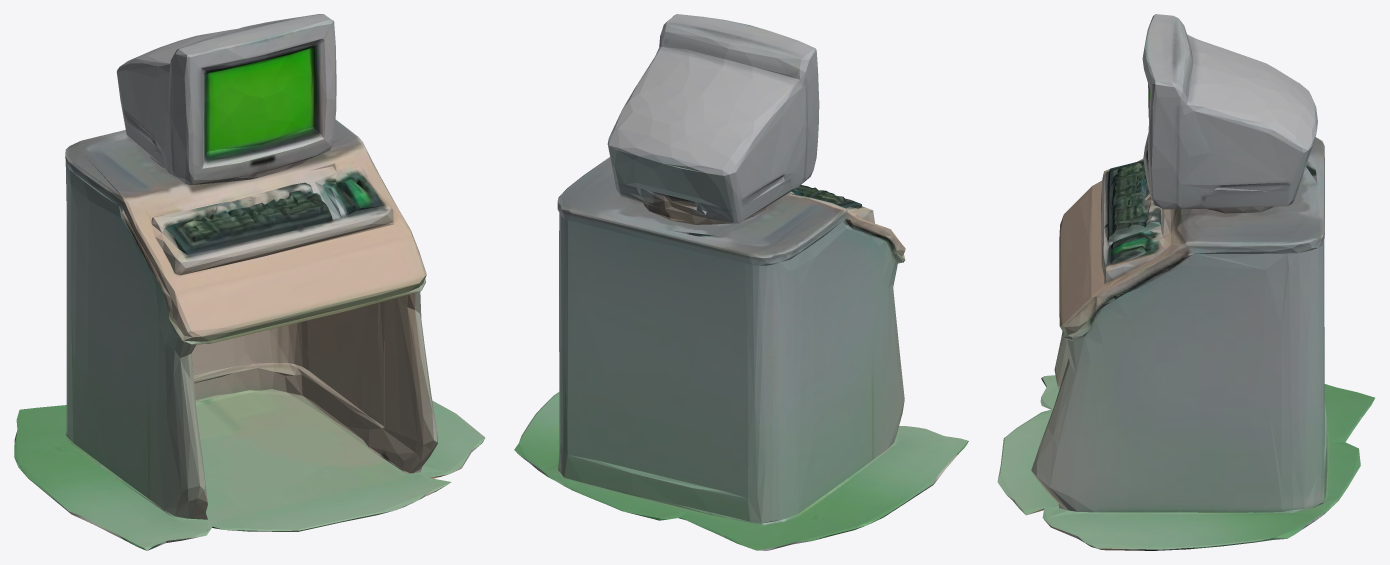
Rendered from archive_terminal.glb.
3 views of the same model, side by side, from view 1: azimuth 30°, elevation 25°; view 2: azimuth 150°, elevation 25°; view 3: azimuth 270°, elevation 25° (orthographic). The views are drawn at different scales.
Visible parts, largest first — view 1: textured_mesh.obj; view 2: textured_mesh.obj; view 3: textured_mesh.obj.
Boxes of the visible parts, x1=… form: textured_mesh.obj: x1=14, y1=14, x2=485, y2=550; textured_mesh.obj: x1=514, y1=14, x2=968, y2=550; textured_mesh.obj: x1=997, y1=14, x2=1374, y2=550.
Size of the model in its own units: 1.23 by 1.3 by 1.08.
1 material, 1 textured.
